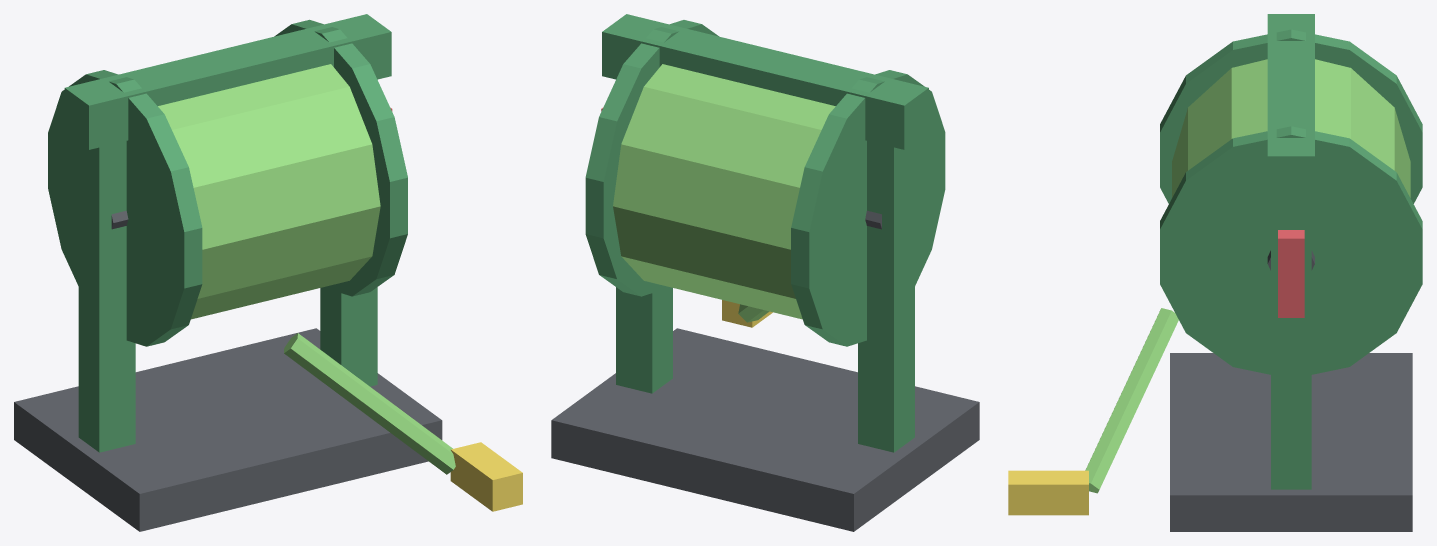
The model's file is lawn-mowing-simulator-kit-garden-hose-reel-da003507__27381.glb.
The picture shows the model from 3 angles, left to right: view 1: azimuth 30°, elevation 25°; view 2: azimuth 150°, elevation 25°; view 3: azimuth 270°, elevation 25°; orthographic projection. The views are drawn at different scales.
Parts seen in each view (by area): view 1: garden-hose-reel, hose-drum/grass, hose-drum/leaf; view 2: garden-hose-reel, hose-drum/grass, hose-drum/leaf; view 3: garden-hose-reel, hose-drum/leaf, hose-drum/grass, hose-drum/red.
Part boxes in pixels (box(x1,y1,x2,y2)): garden-hose-reel: box(14, 14, 522, 531); hose-drum/grass: box(158, 64, 380, 319); hose-drum/leaf: box(48, 19, 407, 346); garden-hose-reel: box(551, 14, 979, 531); hose-drum/grass: box(613, 64, 835, 319); hose-drum/leaf: box(585, 20, 945, 346); garden-hose-reel: box(1008, 14, 1412, 531); hose-drum/leaf: box(1160, 29, 1422, 374); hose-drum/grass: box(1172, 59, 1410, 197); hose-drum/red: box(1278, 230, 1304, 317).
Size of the model in its own units: 0.51 by 0.62 by 0.615.
